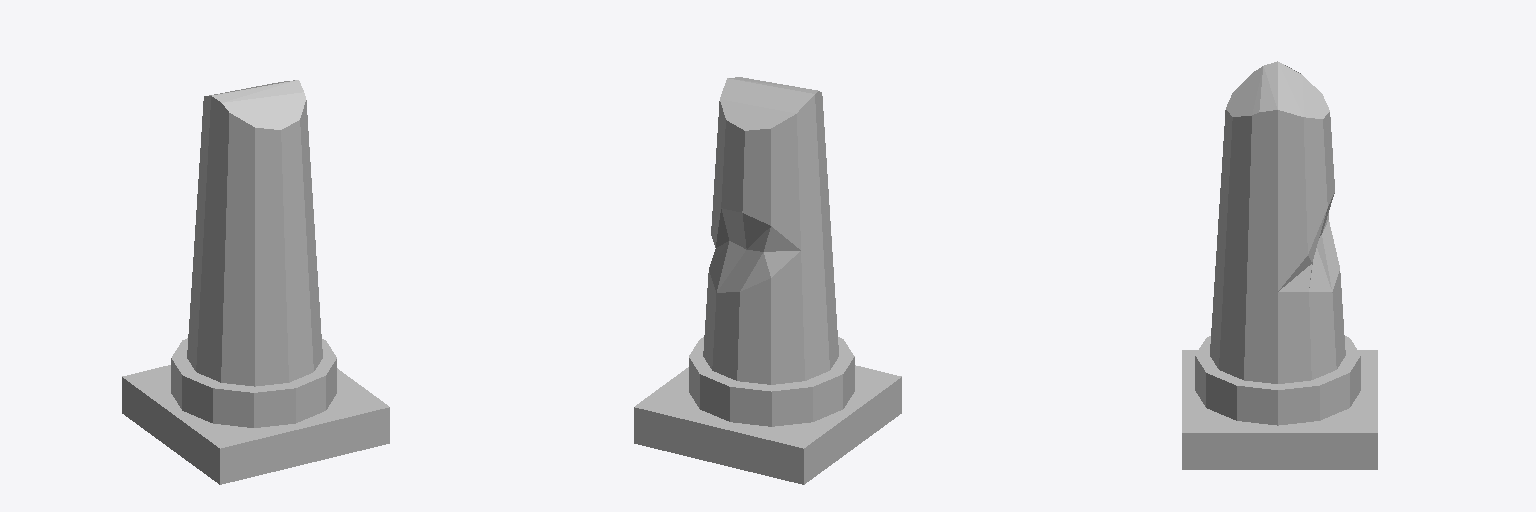
The model's file is col_3.obj.
3 renders of one model, left to right at view 1: azimuth 30°, elevation 25°; view 2: azimuth 150°, elevation 25°; view 3: azimuth 270°, elevation 25°, orthographic.
Parts seen in each view (by area): view 1: column.003_Cylinder.009; view 2: column.003_Cylinder.009; view 3: column.003_Cylinder.009.
Part boxes in pixels (x1,y1,x2,y2): column.003_Cylinder.009: (122, 80, 389, 484); column.003_Cylinder.009: (634, 77, 901, 484); column.003_Cylinder.009: (1182, 61, 1377, 469).
Size of the model in its own units: 5.6 by 10.84 by 5.6.